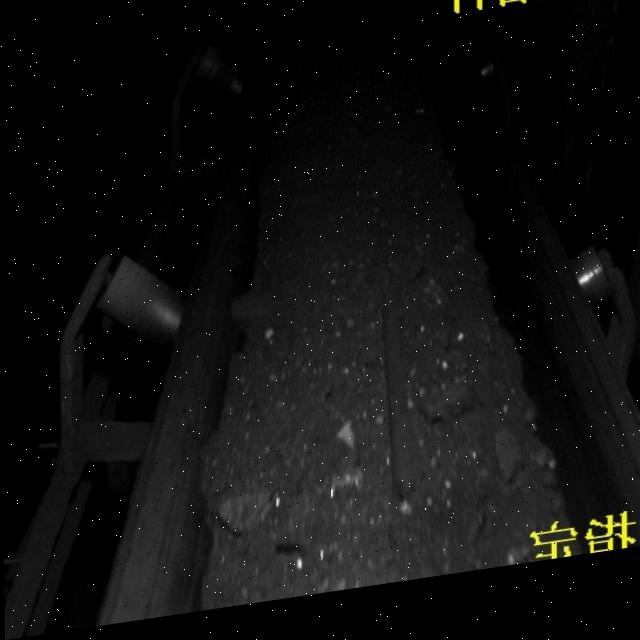bolt: (380, 291, 416, 517)
